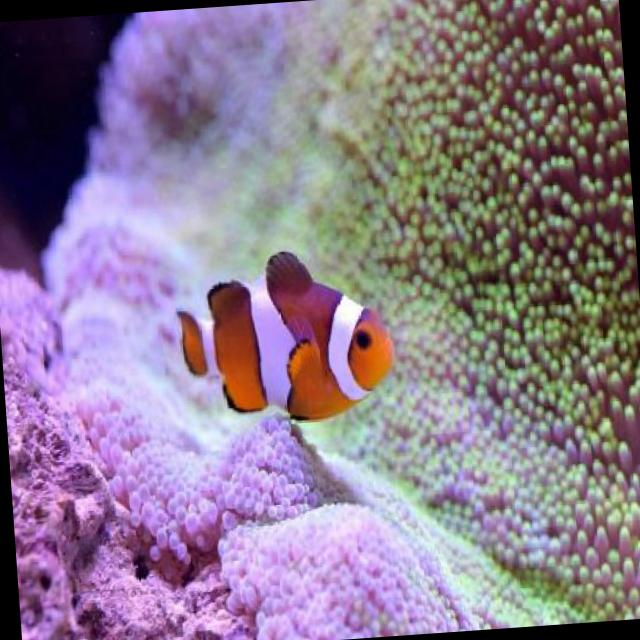ClownFish: (170, 246, 396, 433)
